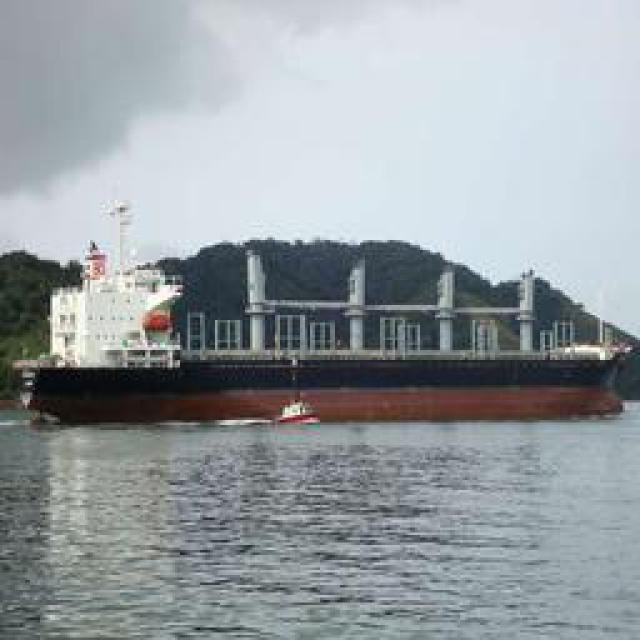Ship: (19, 234, 632, 427)
